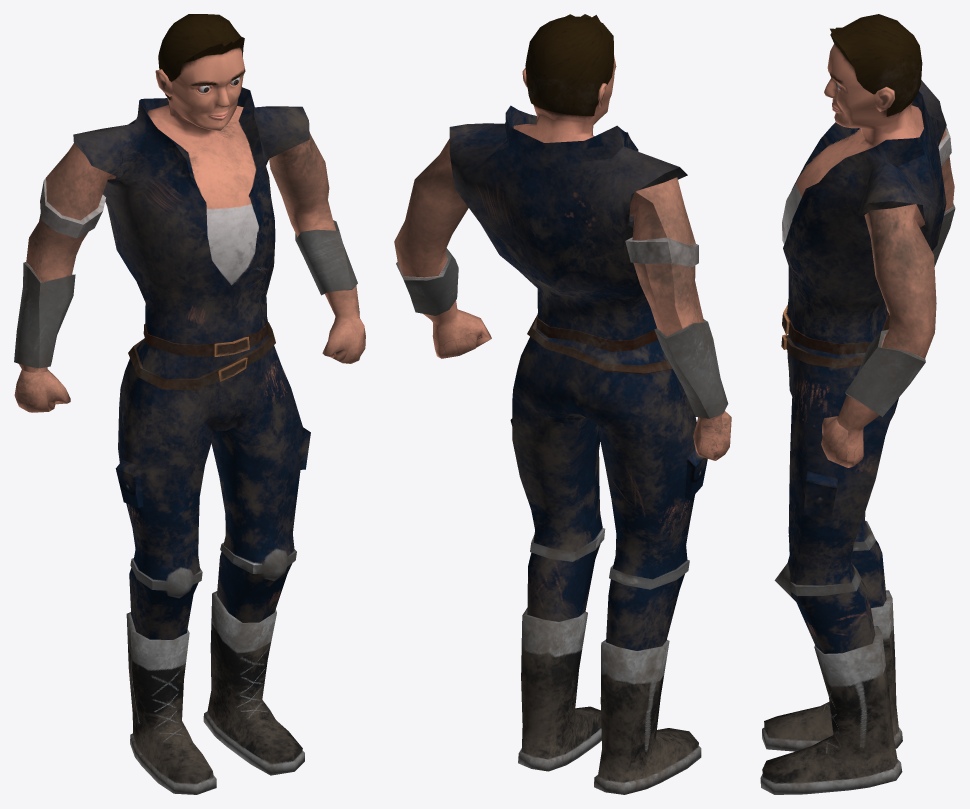
File: Anim_recibirdanyo_jugador.0012.obj
3 views of the same model, side by side, from view 1: azimuth 30°, elevation 25°; view 2: azimuth 150°, elevation 25°; view 3: azimuth 270°, elevation 25° (orthographic). The views are drawn at different scales.
Visible parts, largest first — view 1: polySurface1; view 2: polySurface1; view 3: polySurface1.
Boxes of the visible parts, bbox=[...] form: polySurface1: bbox=[14, 14, 365, 794]; polySurface1: bbox=[394, 14, 731, 794]; polySurface1: bbox=[760, 14, 955, 794].
Bounding box in the file's own units: 4.42 × 9.56 × 2.25.
